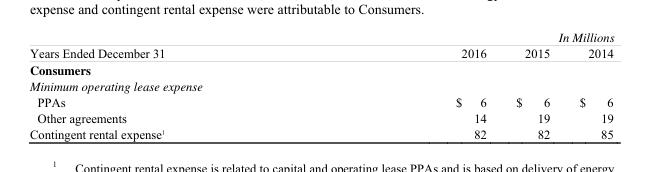table: (28, 29, 613, 140)
table column: (28, 29, 309, 140), (309, 29, 500, 140), (553, 29, 613, 140), (500, 29, 553, 140)
table column header: (28, 29, 613, 60)
table projected row header: (28, 60, 613, 77), (28, 77, 613, 93)
table row: (28, 29, 613, 60), (28, 60, 613, 77), (28, 77, 613, 93), (28, 93, 613, 109), (28, 109, 613, 125), (28, 125, 613, 140)
